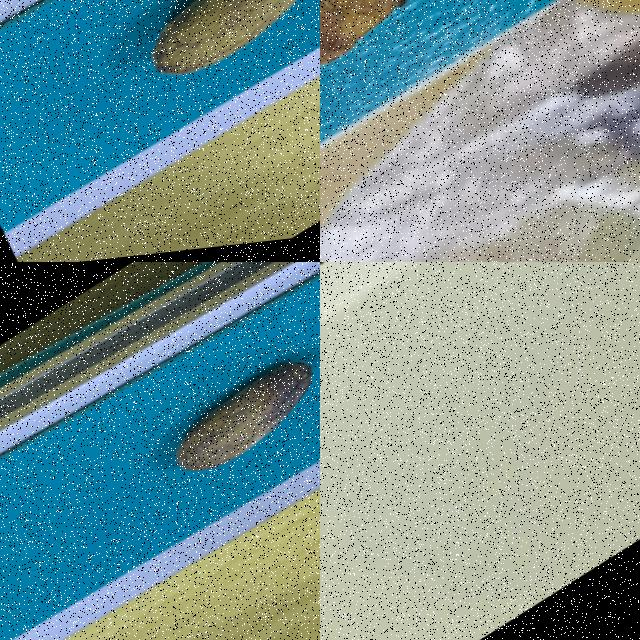Fine_cocoabeans: (33, 0, 319, 187), (100, 315, 319, 543)
Flat_cocoabeans: (320, 262, 639, 459), (320, 0, 520, 193)
